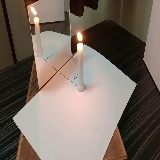fire: (76, 29, 82, 42)
